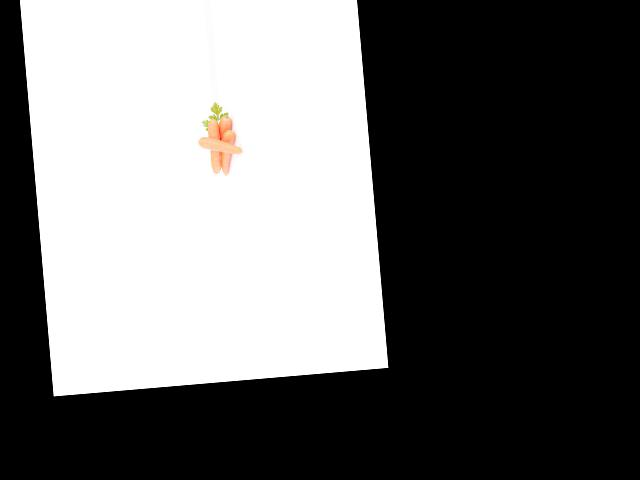carrot: (214, 115, 237, 167)
